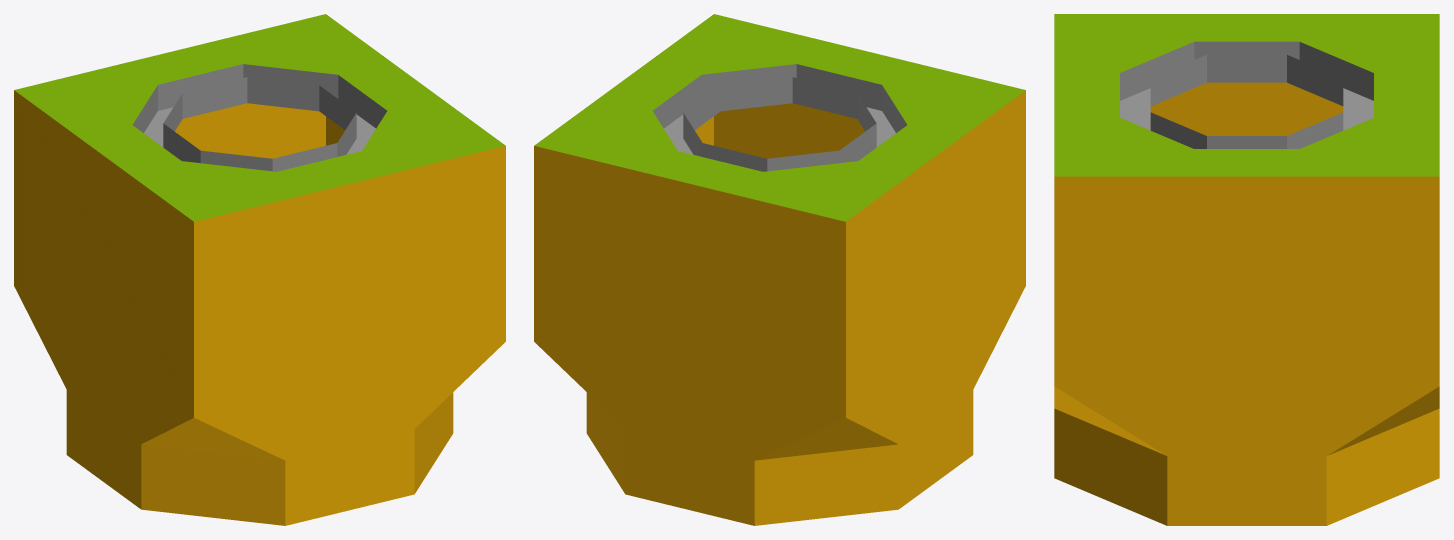
Rendered from epe_servo_b.dae.
The picture shows the model from 3 angles, left to right: view 1: azimuth 30°, elevation 25°; view 2: azimuth 150°, elevation 25°; view 3: azimuth 270°, elevation 25°; orthographic projection. The views are drawn at different scales.
Visible parts, largest first — view 1: servo_b; view 2: servo_b; view 3: servo_b.
Boxes of the visible parts, bbox=[...] form: servo_b: bbox=[14, 14, 505, 525]; servo_b: bbox=[534, 14, 1025, 525]; servo_b: bbox=[1054, 14, 1439, 525].
Bounding box in the file's own units: 0.25 × 0.25 × 0.25.
